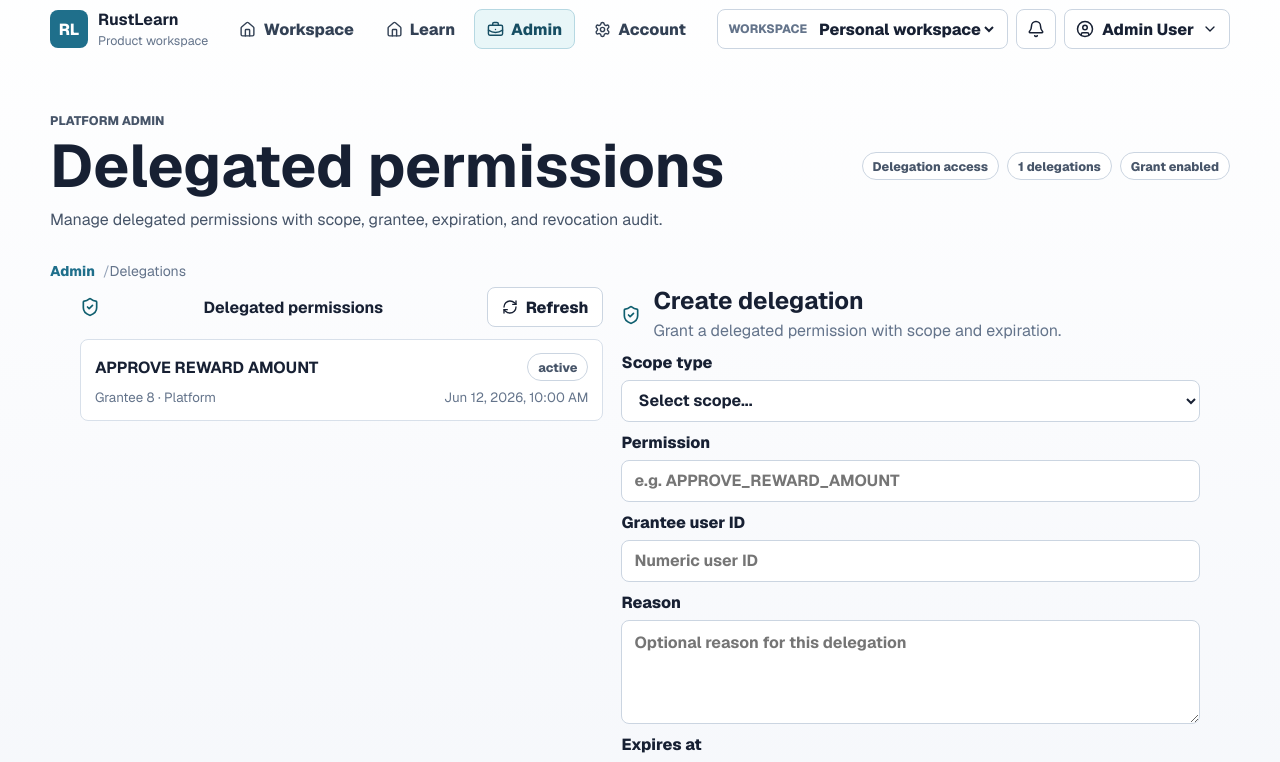
Test: AdminDelegationsRoute › selects and revokes an active delegation
Click the button "APPROVE REWARD AMOUNT".
click(207, 367)  # box [80,339,603,421]
(page scrolled)
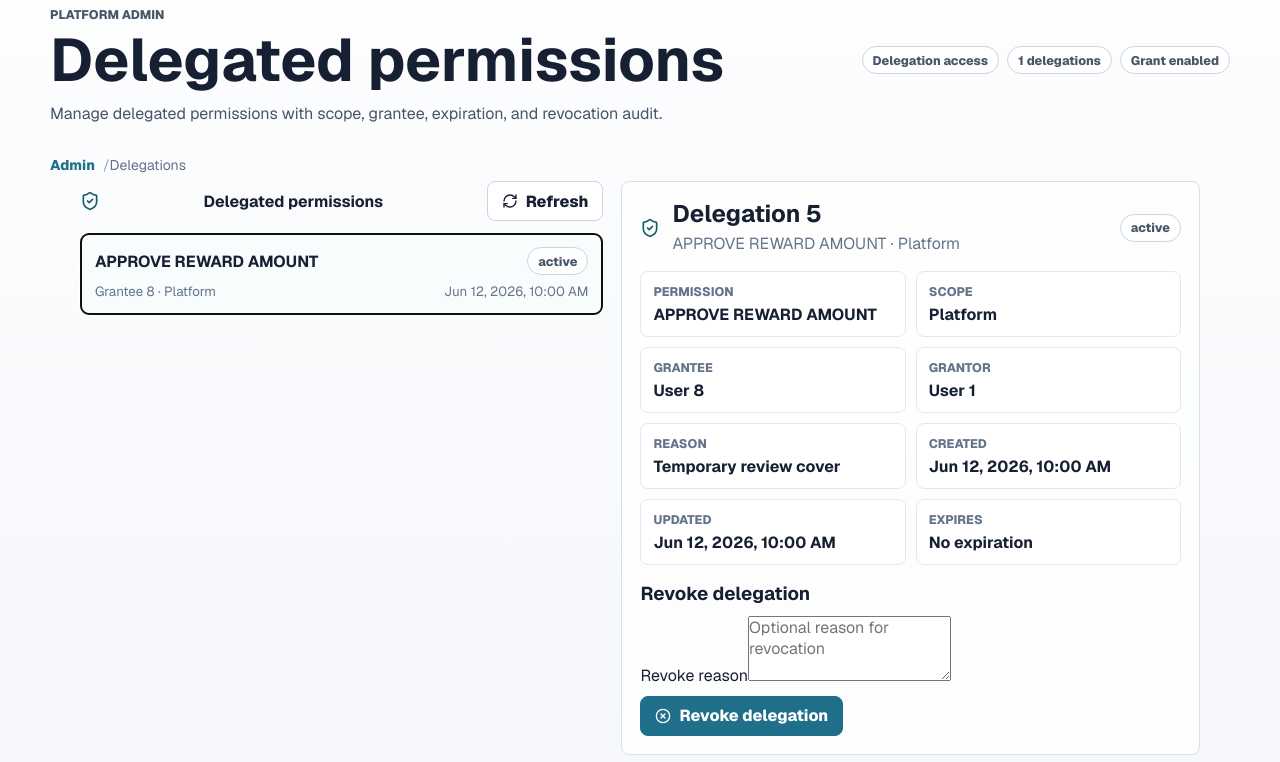
Result: the heading "Delegation 5" is shown at [672,198,822,229]
Type "Done" into the text box labelled "Revoke reason".
click(850, 648); type("Done")  # box [748,616,951,681]
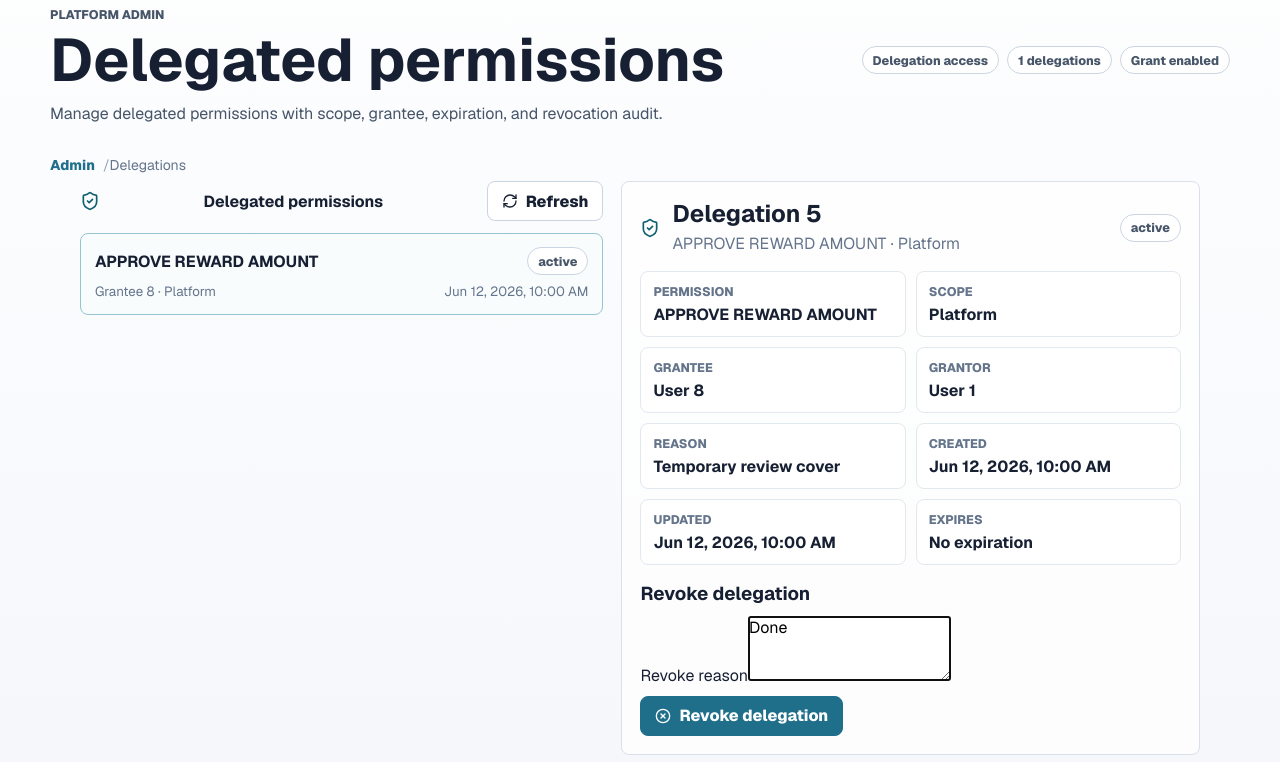
Click the button "Revoke delegation".
click(742, 716)  # box [640,696,843,736]
(page scrolled)
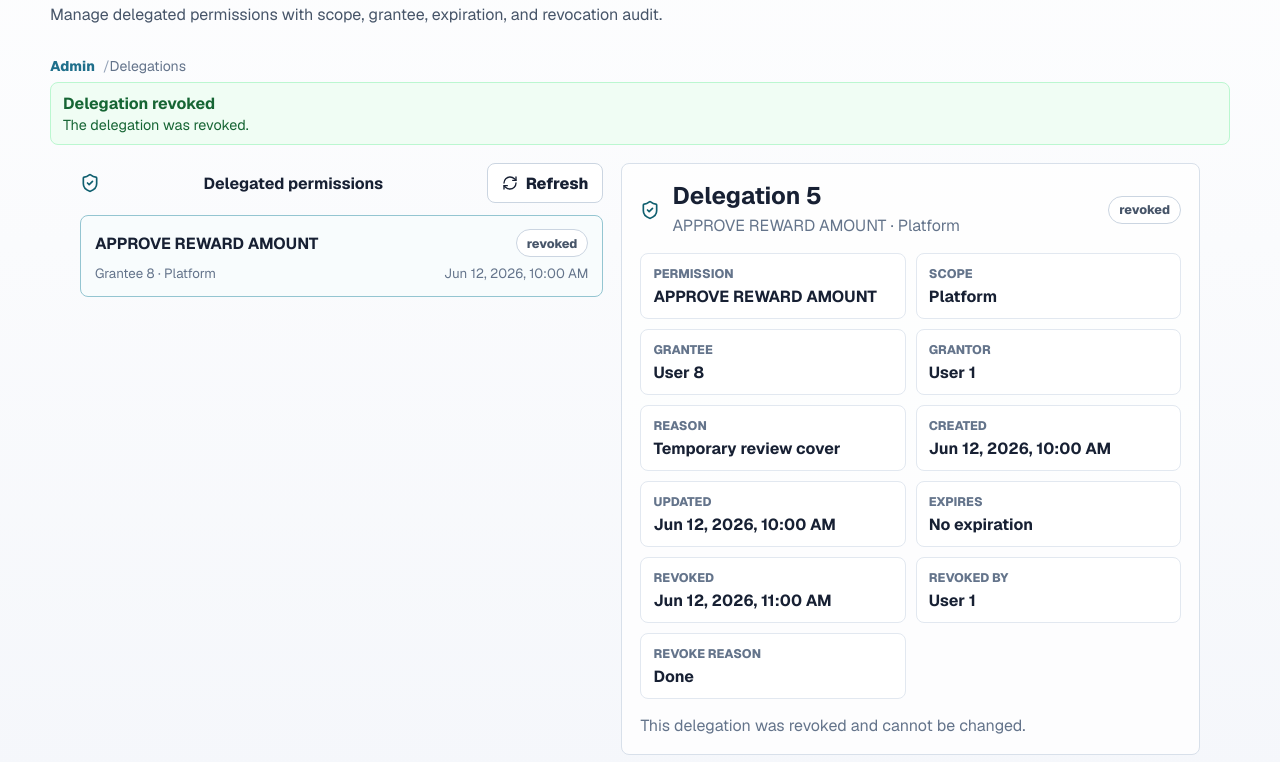
Result: the text "Delegation revoked" is shown at [63,93,215,114]
Result: the text "This delegation was revoked and cannot be changed." is shown at [640,715,1026,736]
